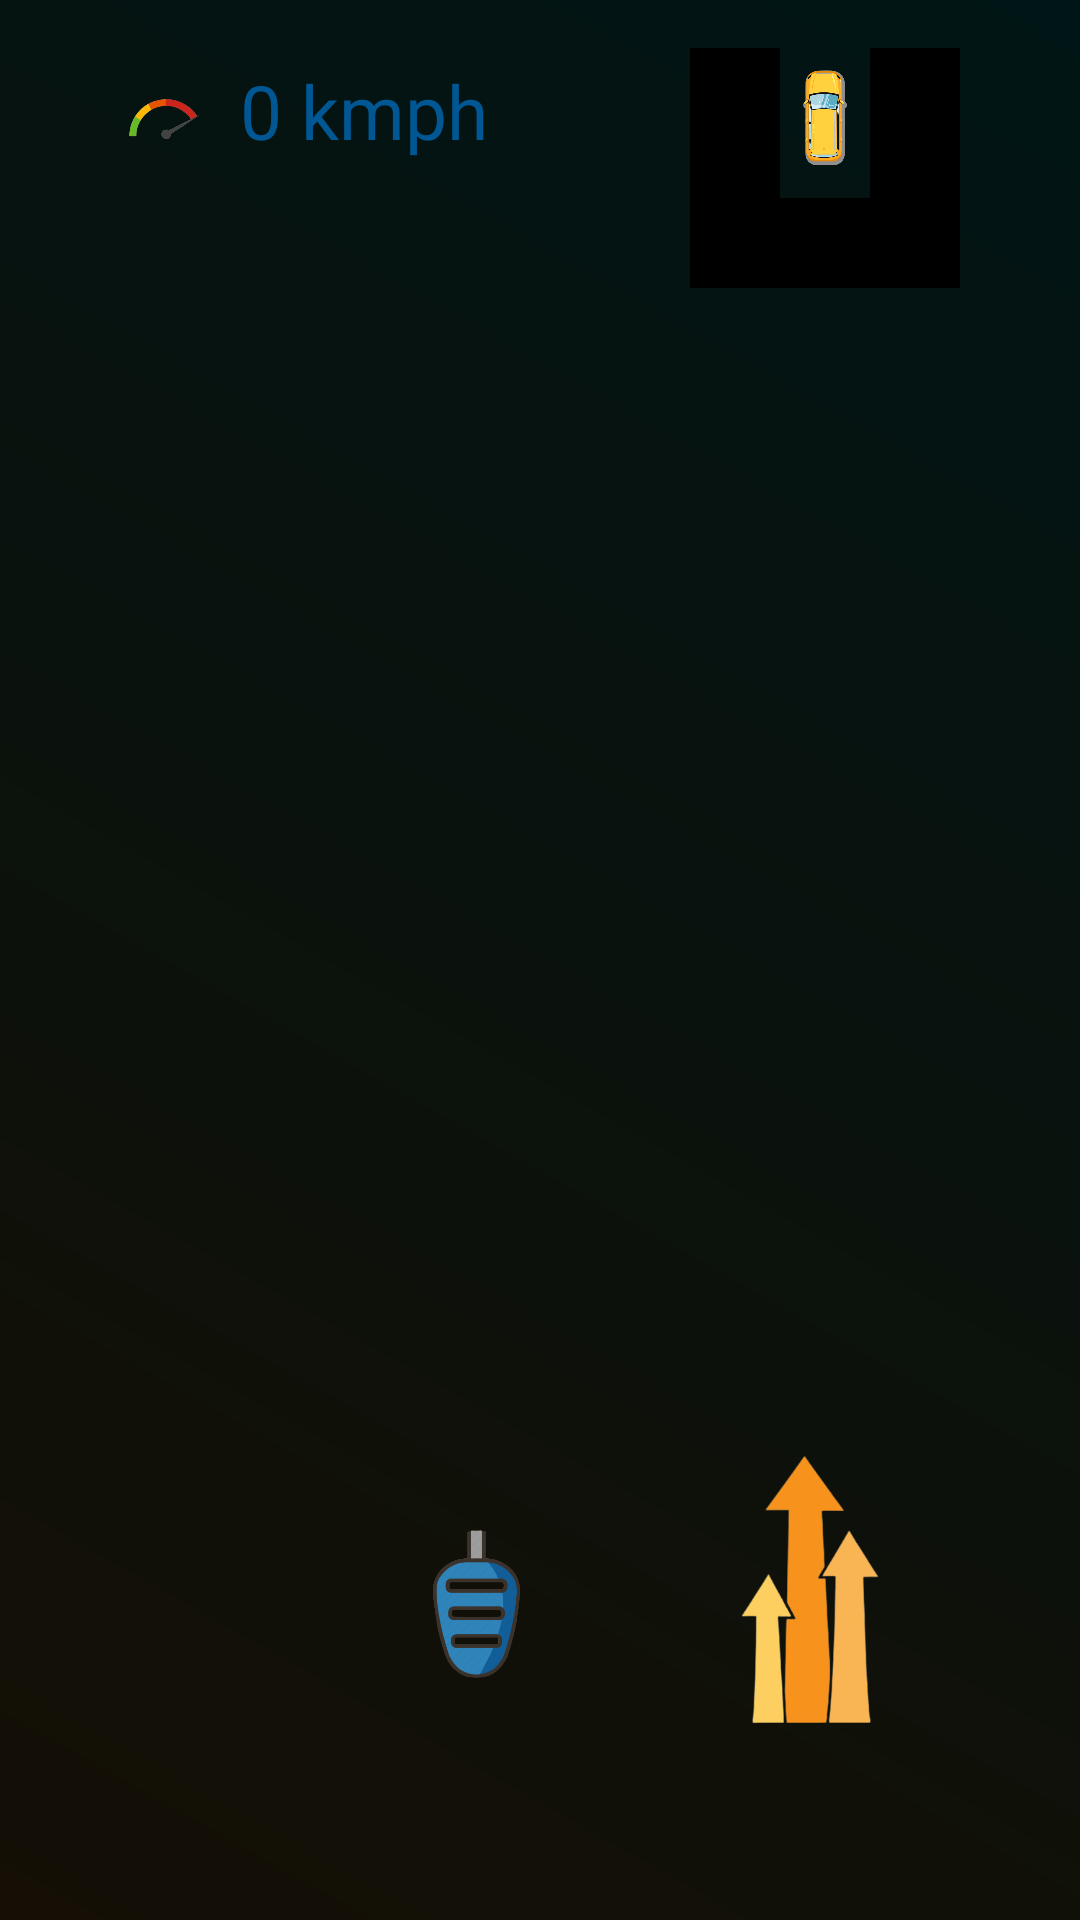

Screen size 1080w x 1920h. Icon name, then its center in pixels as [x,y]:
accelarator: [810,1589]
break: [476,1604]
carblock: [825,117]
meter: [164,119]
